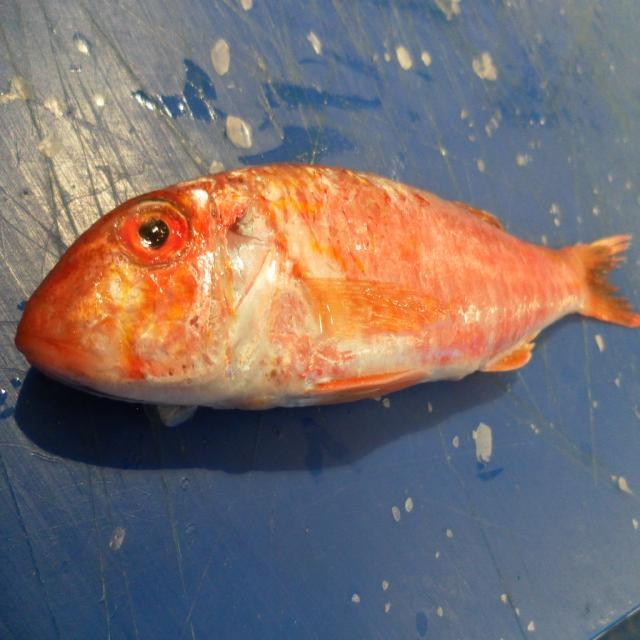Red-Mullet-kefal-: (14, 164, 640, 415)
